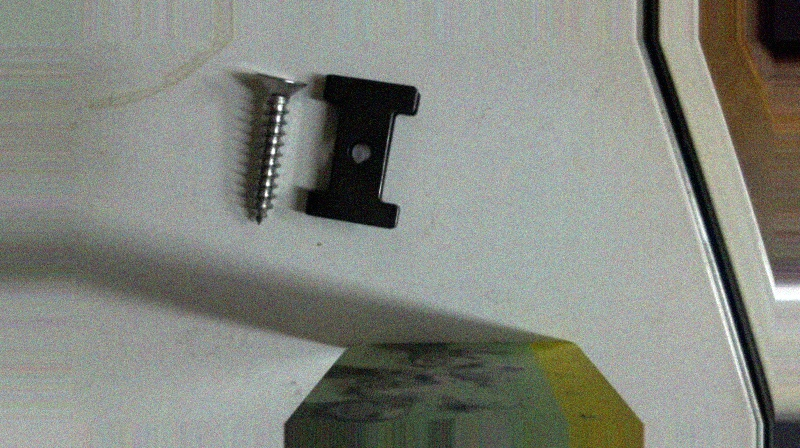O002: (306, 72, 419, 226)
S001: (248, 69, 307, 233)
